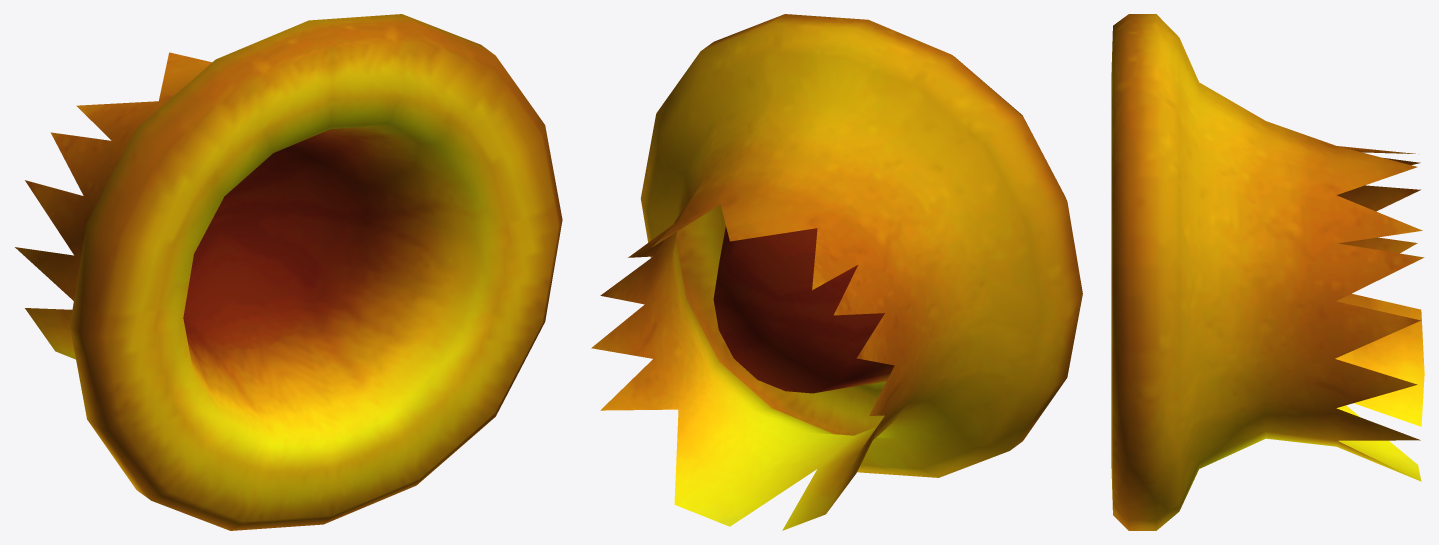
Rendered from firepea_boca.obj.
The picture shows the model from 3 angles, left to right: view 1: azimuth 30°, elevation 25°; view 2: azimuth 150°, elevation 25°; view 3: azimuth 270°, elevation 25°; orthographic projection. The views are drawn at different scales.
Visible parts, largest first — view 1: firepea_boca; view 2: firepea_boca; view 3: firepea_boca.
Part boxes in pixels (left/top/right/bottom): firepea_boca: left=15, top=14, right=562, bottom=530; firepea_boca: left=591, top=14, right=1082, bottom=530; firepea_boca: left=1111, top=14, right=1424, bottom=530.
Size of the model in its own units: 0.3896 by 0.3843 by 0.236.
